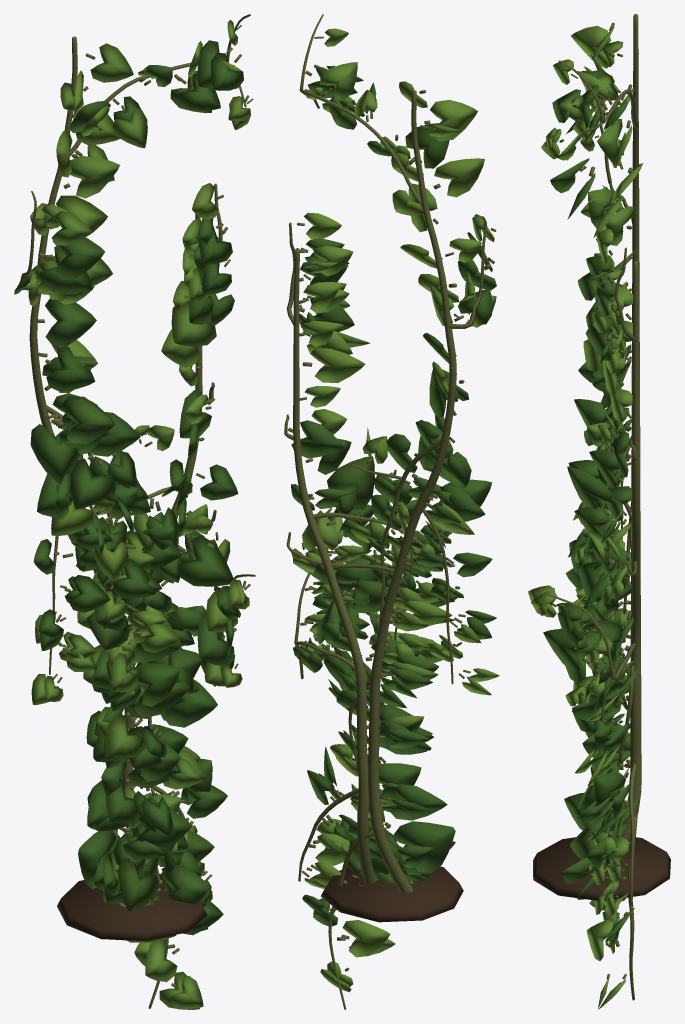
The model's file is climber_ivy_narrow_b.glb.
3 renders of one model, left to right at view 1: azimuth 30°, elevation 25°; view 2: azimuth 150°, elevation 25°; view 3: azimuth 270°, elevation 25°, orthographic. The views are drawn at different scales.
Visible parts, largest first — view 1: Sammel Pflanze, Sammel Putz; view 2: Sammel Pflanze, Sammel Putz; view 3: Sammel Pflanze, Sammel Putz.
Part boxes in pixels (left/top/right/bottom): Sammel Pflanze: left=14, top=19, right=250, bottom=1009; Sammel Putz: left=17, top=14, right=255, bottom=1008; Sammel Pflanze: left=291, top=28, right=499, bottom=992; Sammel Putz: left=284, top=14, right=496, bottom=1009; Sammel Pflanze: left=528, top=25, right=643, bottom=1009; Sammel Putz: left=533, top=14, right=670, bottom=1000.
Size of the model in its own units: 0.5601 by 2.49 by 0.3331.
